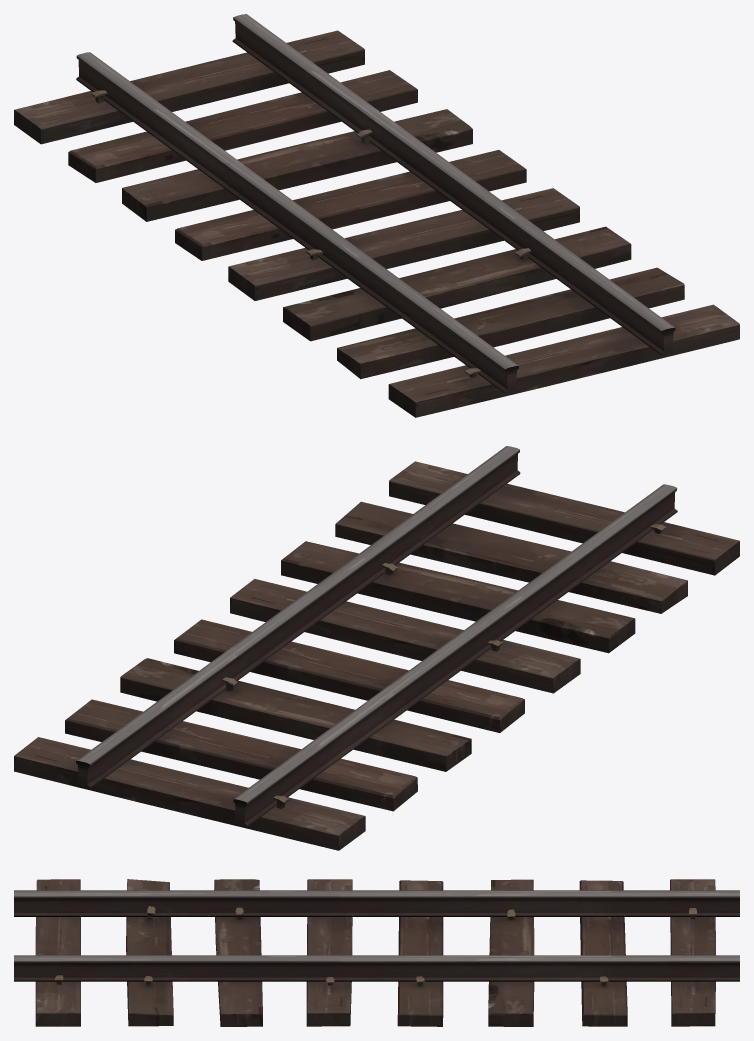
3 views of the same model, one above another, from view 1: azimuth 30°, elevation 25°; view 2: azimuth 150°, elevation 25°; view 3: azimuth 270°, elevation 25° (orthographic). The views are drawn at different scales.
Parts seen in each view (by area): view 1: body0_model0_lod0_mesh0; view 2: body0_model0_lod0_mesh0; view 3: body0_model0_lod0_mesh0.
Part boxes in pixels (x1=…): body0_model0_lod0_mesh0: x1=14, y1=14, x2=739, y2=417; body0_model0_lod0_mesh0: x1=14, y1=446, x2=739, y2=850; body0_model0_lod0_mesh0: x1=14, y1=879, x2=739, y2=1026.
Size of the model in its own units: 56.22 by 6.77 by 128.
Materials: 1 (1 with a texture image).
